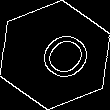O_SW: (20, 22, 90, 88)
